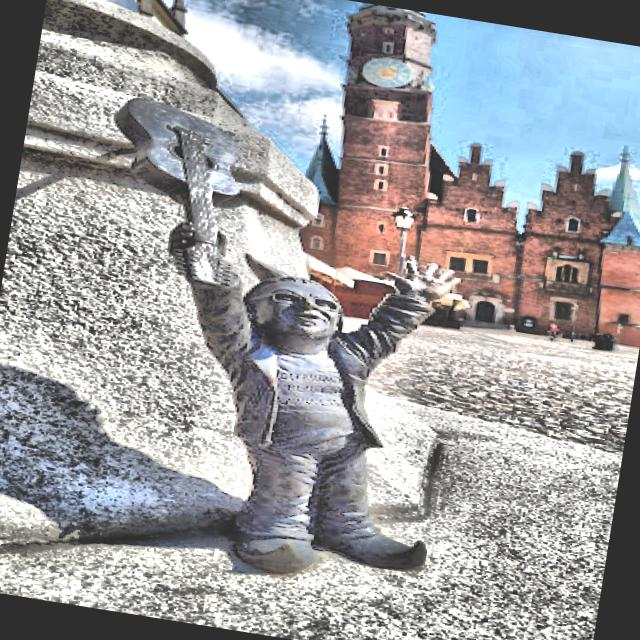Leszko_z_Wroclawia: (115, 99, 461, 573)
